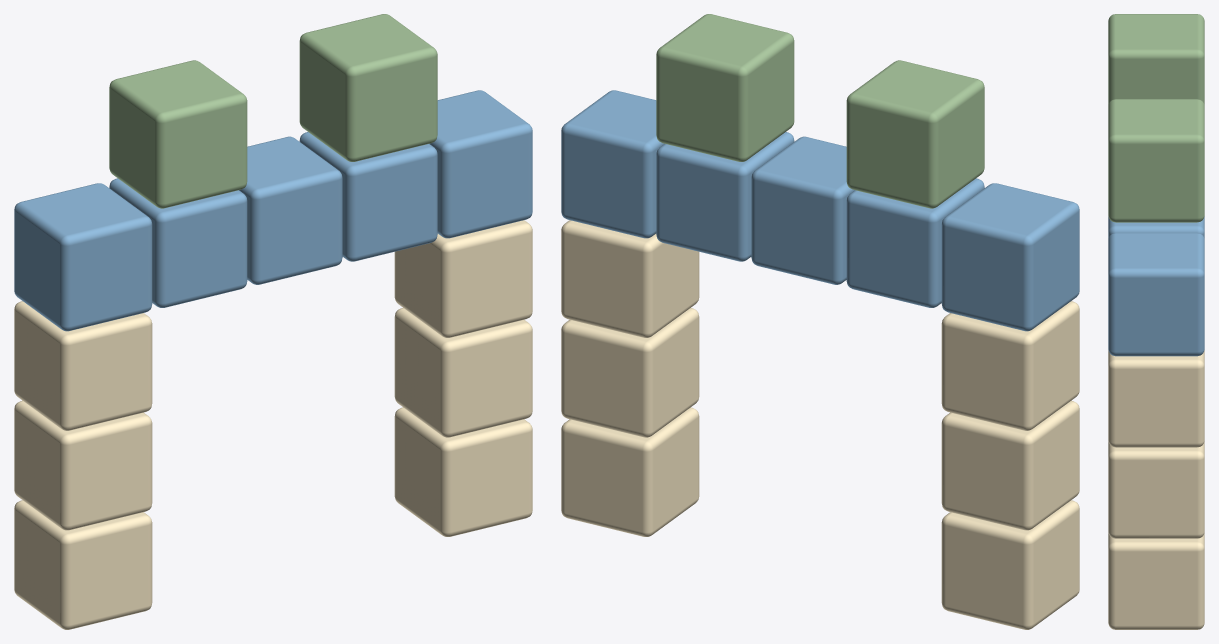
Rendered from floating-arch.glb.
The picture shows the model from 3 angles, left to right: view 1: azimuth 30°, elevation 25°; view 2: azimuth 150°, elevation 25°; view 3: azimuth 270°, elevation 25°; orthographic projection. The views are drawn at different scales.
Parts seen in each view (by area): view 1: floating-arch-cell-6, floating-arch-cell-11, floating-arch-cell-12, floating-arch-cell-2, floating-arch-cell-0, floating-arch-cell-3, floating-arch-cell-4, floating-arch-cell-1, floating-arch-cell-5, floating-arch-cell-10, floating-arch-cell-8, floating-arch-cell-7 (+1 smaller); view 2: floating-arch-cell-6, floating-arch-cell-11, floating-arch-cell-12, floating-arch-cell-2, floating-arch-cell-0, floating-arch-cell-3, floating-arch-cell-4, floating-arch-cell-1, floating-arch-cell-5, floating-arch-cell-10, floating-arch-cell-8, floating-arch-cell-7 (+1 smaller); view 3: floating-arch-cell-12, floating-arch-cell-10, floating-arch-cell-3, floating-arch-cell-1, floating-arch-cell-5, floating-arch-cell-11, floating-arch-cell-9.
Part boxes in pixels (<box>): floating-arch-cell-6: <box>14,183,152,331</box>; floating-arch-cell-11: <box>109,60,247,208</box>; floating-arch-cell-12: <box>299,14,437,161</box>; floating-arch-cell-2: <box>14,400,152,530</box>; floating-arch-cell-0: <box>14,500,152,629</box>; floating-arch-cell-3: <box>394,308,532,437</box>; floating-arch-cell-4: <box>14,301,152,430</box>; floating-arch-cell-1: <box>394,407,532,536</box>; floating-arch-cell-5: <box>394,220,532,337</box>; floating-arch-cell-10: <box>429,90,532,238</box>; floating-arch-cell-8: <box>239,136,342,284</box>; floating-arch-cell-7: <box>109,178,247,307</box>; floating-arch-cell-6: <box>941,183,1079,331</box>; floating-arch-cell-11: <box>846,60,984,208</box>; floating-arch-cell-12: <box>656,14,794,161</box>; floating-arch-cell-2: <box>941,400,1079,530</box>; floating-arch-cell-0: <box>941,500,1079,629</box>; floating-arch-cell-3: <box>561,308,699,437</box>; floating-arch-cell-4: <box>941,301,1079,430</box>; floating-arch-cell-1: <box>561,407,699,536</box>; floating-arch-cell-5: <box>561,220,699,337</box>; floating-arch-cell-10: <box>561,90,664,238</box>; floating-arch-cell-8: <box>751,136,854,284</box>; floating-arch-cell-7: <box>846,178,984,307</box>; floating-arch-cell-12: <box>1108,99,1204,222</box>; floating-arch-cell-10: <box>1108,233,1204,356</box>; floating-arch-cell-3: <box>1108,441,1204,538</box>; floating-arch-cell-1: <box>1108,532,1204,629</box>; floating-arch-cell-5: <box>1108,350,1204,447</box>; floating-arch-cell-11: <box>1108,14,1204,104</box>; floating-arch-cell-9: <box>1108,216,1204,238</box>.
Bounding box in the file's own units: 4.96 × 4.96 × 0.96.
